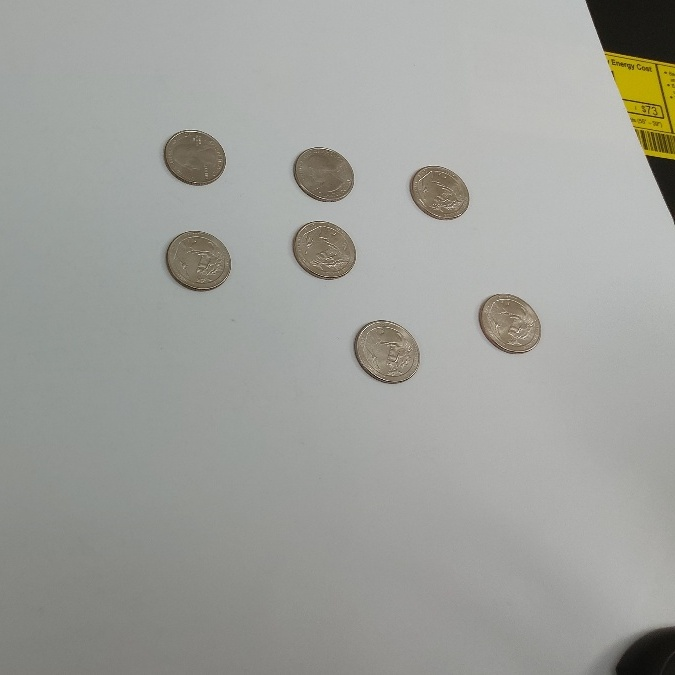coin_quarter: (157, 121, 228, 188), (162, 226, 233, 293), (286, 138, 357, 205), (291, 215, 362, 282), (403, 157, 474, 223), (348, 316, 419, 382), (479, 289, 550, 355)
